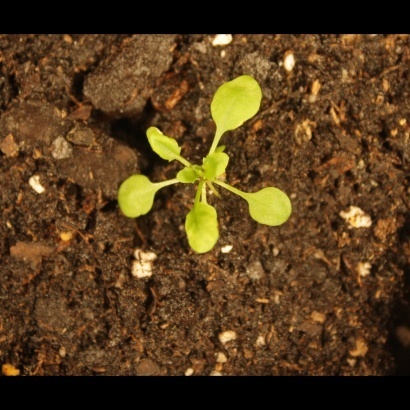leaf: (210, 69, 270, 139), (112, 171, 166, 230), (246, 179, 295, 233), (184, 199, 223, 263), (146, 117, 184, 163), (199, 147, 228, 188), (173, 163, 203, 189)
